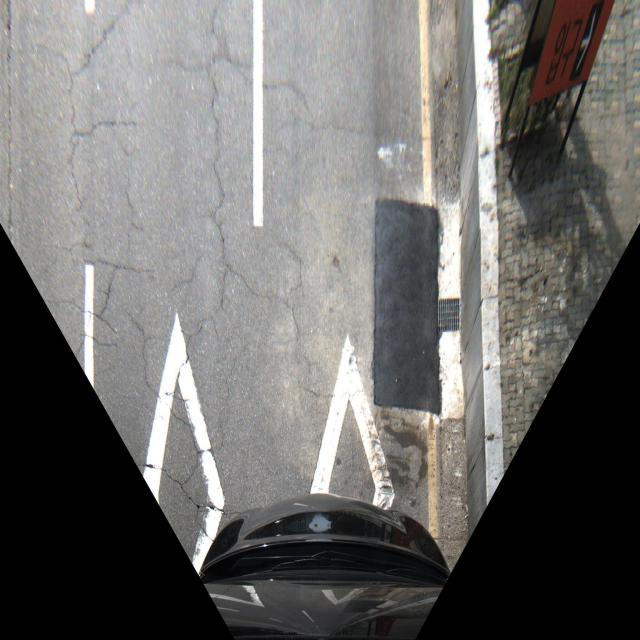diamond: (85, 313, 243, 572)
